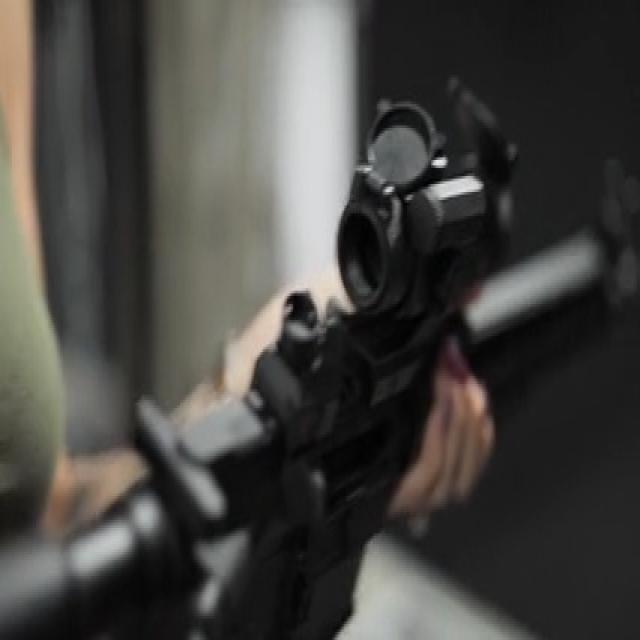Gun_Holder: (52, 85, 607, 631)
